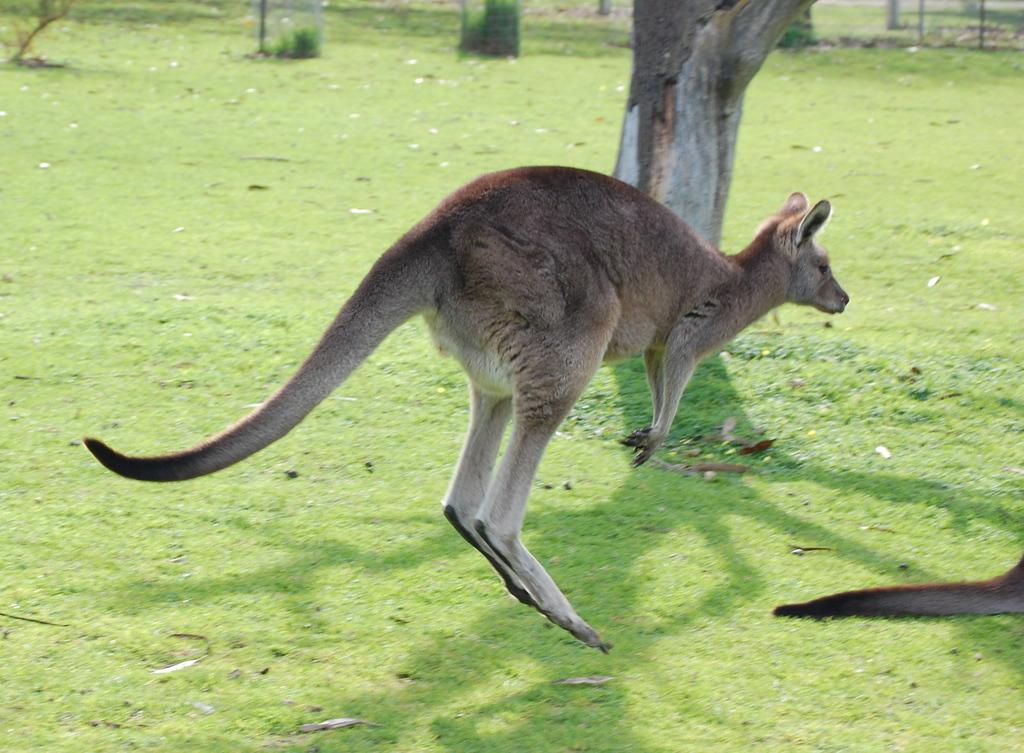kangaroo: (78, 160, 850, 649), (768, 551, 1023, 619)
